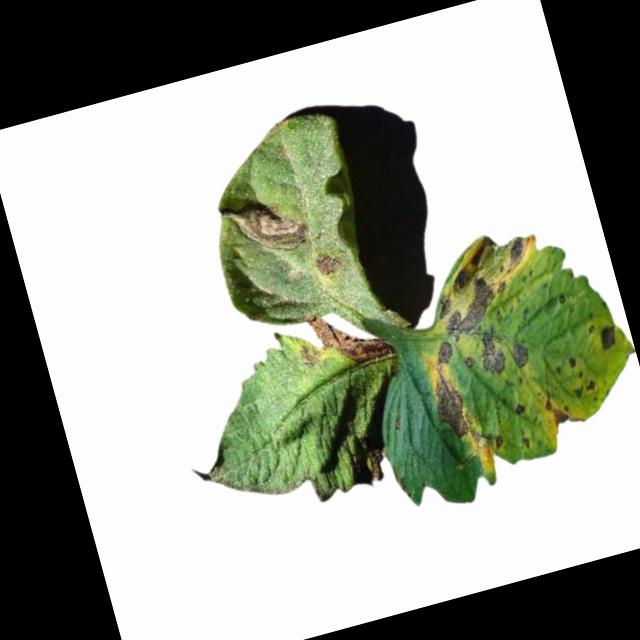Early_blight: (421, 221, 557, 345), (301, 292, 394, 376), (222, 183, 318, 264), (425, 364, 478, 444), (474, 325, 513, 377), (542, 389, 571, 431), (595, 319, 623, 351), (431, 338, 459, 367), (315, 249, 343, 275), (569, 377, 597, 400), (510, 341, 531, 368), (512, 400, 528, 415), (566, 354, 580, 370), (492, 434, 505, 450), (462, 354, 475, 368)
